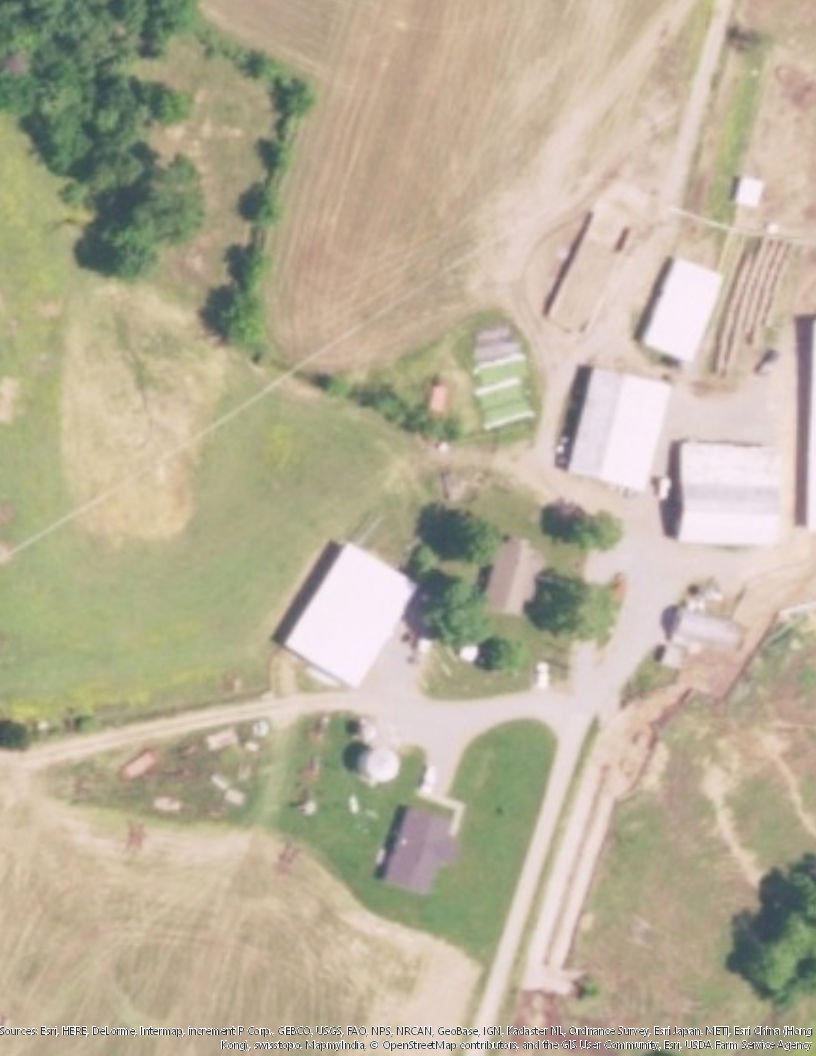cafo: (267, 538, 424, 687), (556, 356, 680, 491), (668, 433, 793, 558), (639, 256, 733, 365)
